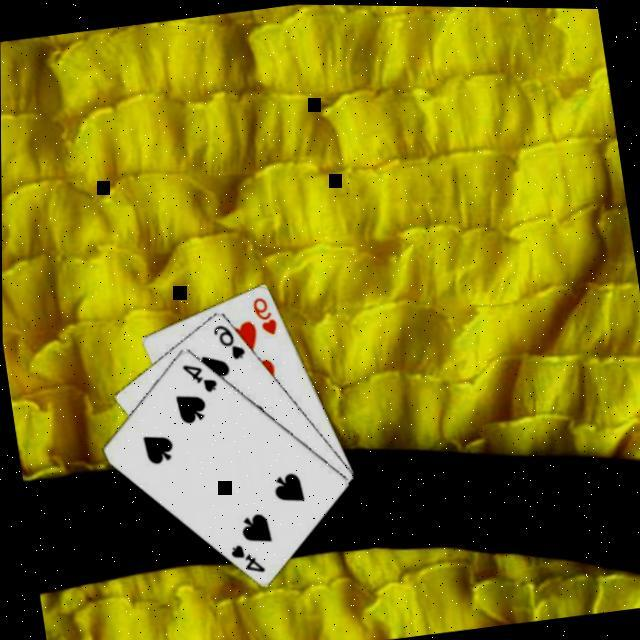4S: (224, 538, 266, 580), (177, 360, 219, 399)
6S: (208, 319, 248, 365)
9H: (248, 293, 280, 340)
